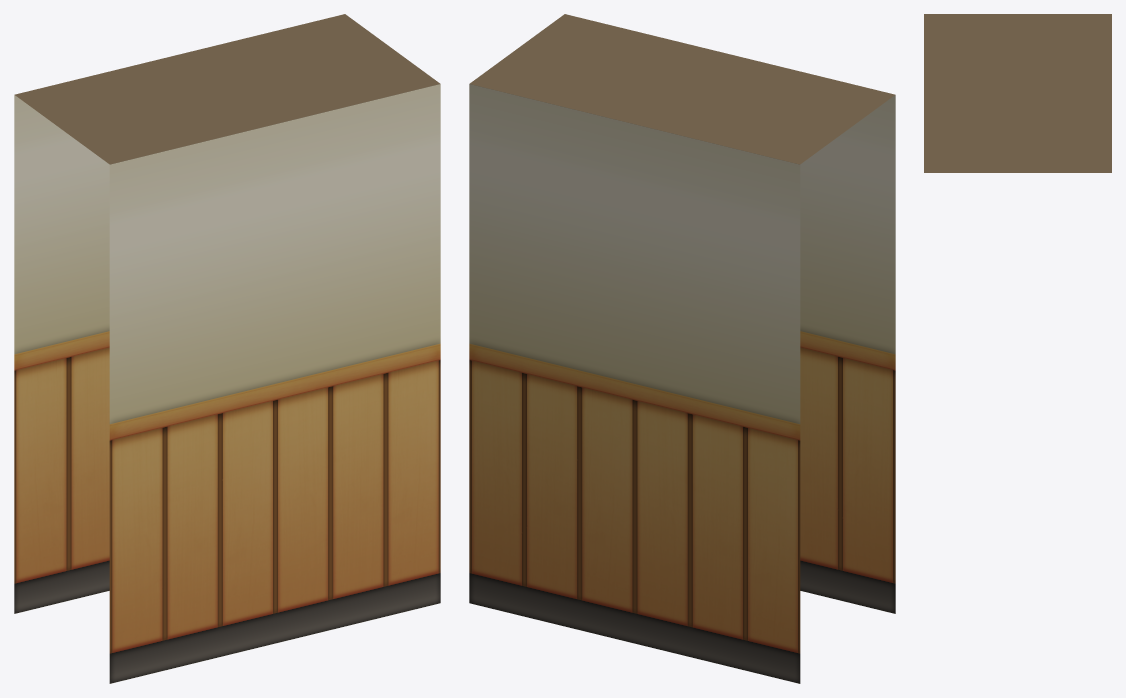
Rendered from SO_BG_FBX_Wall_08.fbx.
3 views of the same model, side by side, from view 1: azimuth 30°, elevation 25°; view 2: azimuth 150°, elevation 25°; view 3: azimuth 270°, elevation 25° (orthographic).
Parts seen in each view (by area): view 1: SO_BG_FBX_Wall_08; view 2: SO_BG_FBX_Wall_08; view 3: SO_BG_FBX_Wall_08.
Boxes of the visible parts, x1,y1,x2,y2 form: SO_BG_FBX_Wall_08: (14,14,440,683); SO_BG_FBX_Wall_08: (469,14,895,683); SO_BG_FBX_Wall_08: (924,14,1111,172).
Bounding box in the file's own units: 100 × 150 × 50.
